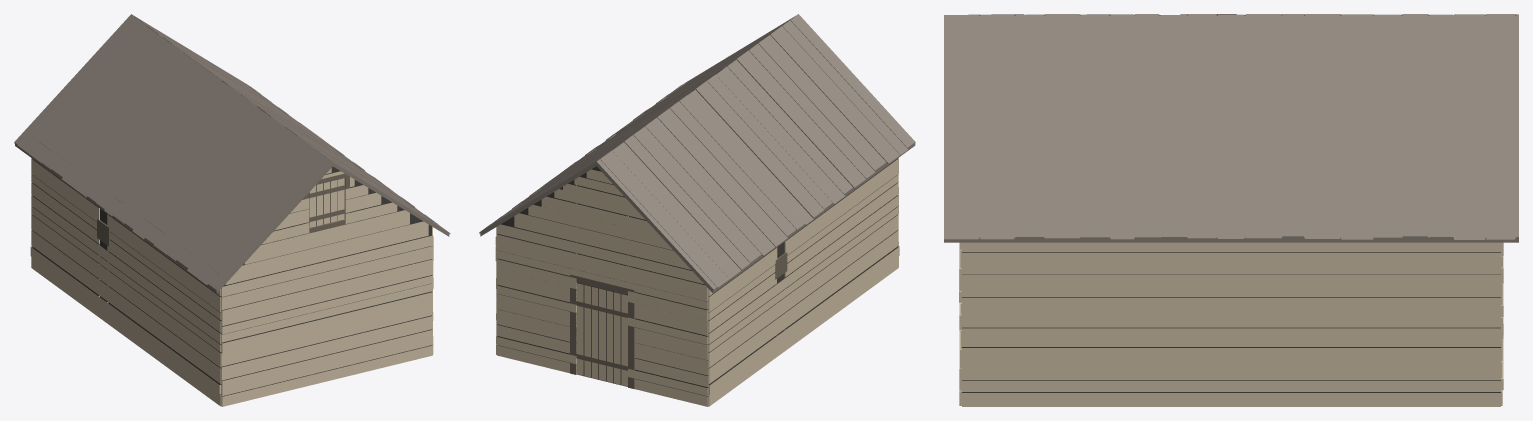
File: recon_1835_west_023__inferred_1835.glb
The picture shows the model from 3 angles, left to right: view 1: azimuth 30°, elevation 25°; view 2: azimuth 150°, elevation 25°; view 3: azimuth 270°, elevation 25°; orthographic projection. The views are drawn at different scales.
Visible parts, largest first — view 1: recon_1835_west_023__inferred_1835; view 2: recon_1835_west_023__inferred_1835; view 3: recon_1835_west_023__inferred_1835.
Boxes of the visible parts, <box> form: recon_1835_west_023__inferred_1835: <box>14,14,450,406</box>; recon_1835_west_023__inferred_1835: <box>479,14,915,406</box>; recon_1835_west_023__inferred_1835: <box>944,14,1518,406</box>.
Size of the model in its own units: 6.16 by 5.57 by 9.1.
